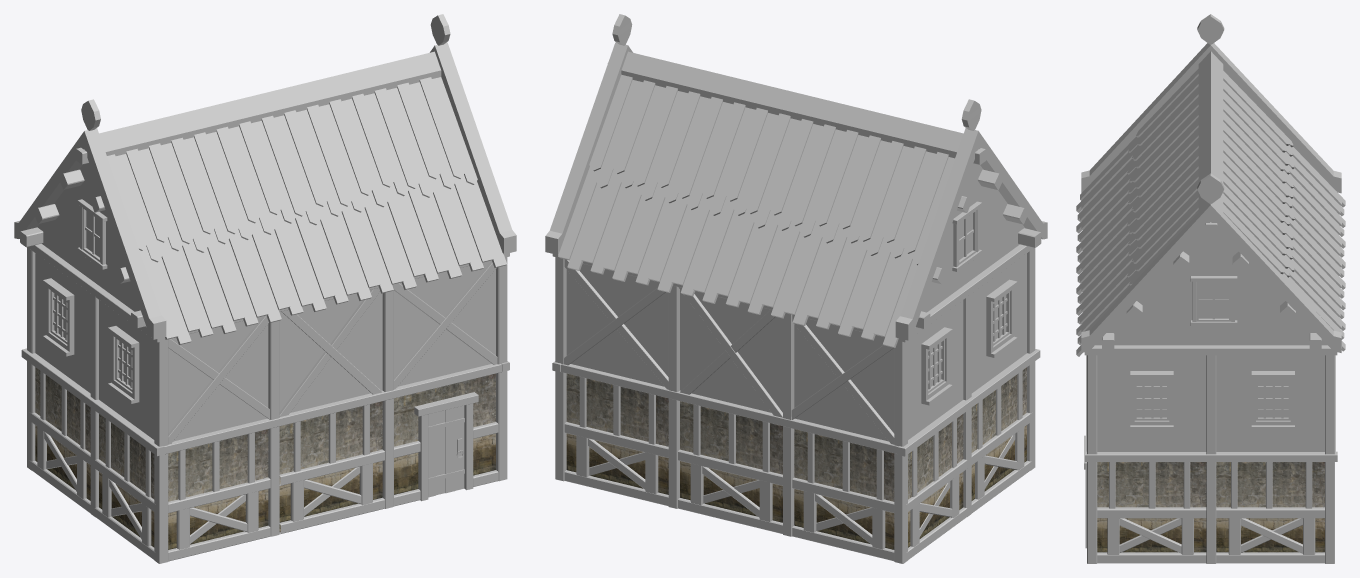
Rendered from 15Building.fbx.
3 views of the same model, side by side, from view 1: azimuth 30°, elevation 25°; view 2: azimuth 150°, elevation 25°; view 3: azimuth 270°, elevation 25° (orthographic). The views are drawn at different scales.
Parts seen in each view (by area): view 1: Plane.029; view 2: Plane.029; view 3: Plane.029.
Part boxes in pixels (bbox=[...]): Plane.029: bbox=[14, 14, 516, 563]; Plane.029: bbox=[545, 14, 1047, 563]; Plane.029: bbox=[1076, 14, 1345, 563].
Size of the model in its own units: 9.86 by 10.54 by 6.61.
